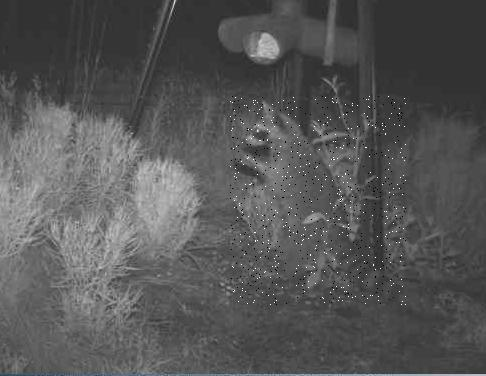Raccoon: (230, 96, 406, 305)
